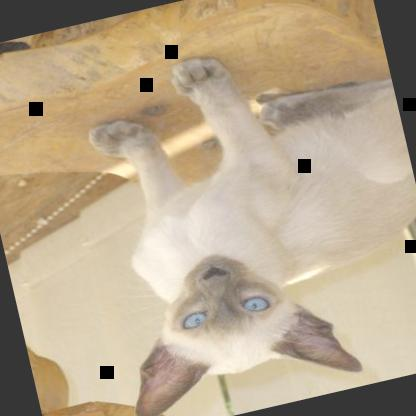cat: (60, 17, 415, 415)
